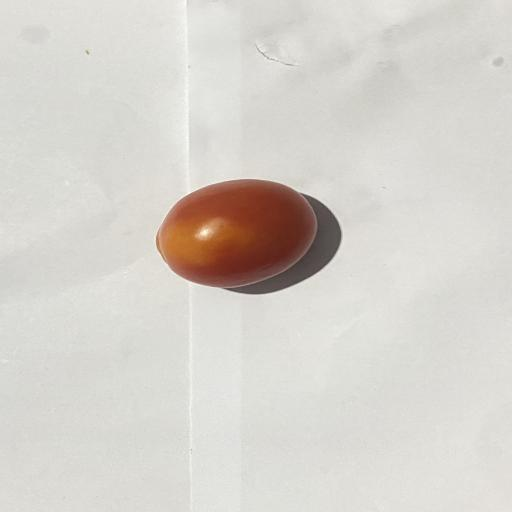ripe: (156, 179, 317, 288)
